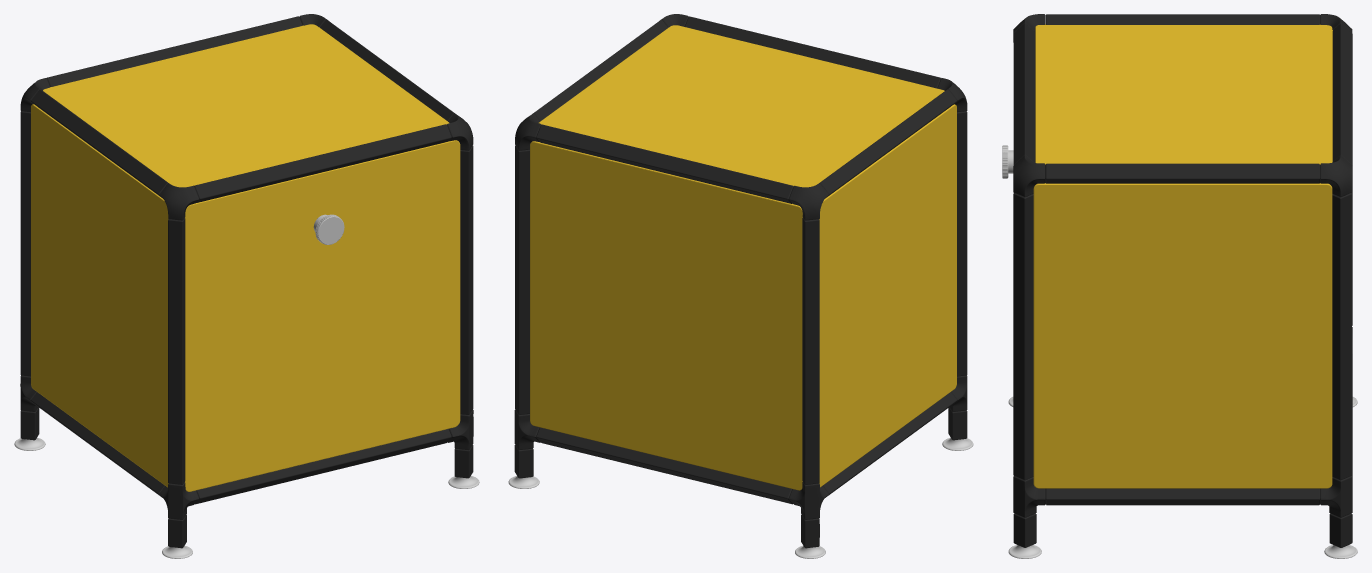
3 views of the same model, side by side, from view 1: azimuth 30°, elevation 25°; view 2: azimuth 150°, elevation 25°; view 3: azimuth 270°, elevation 25° (orthographic). The views are drawn at different scales.
Visible parts, largest first — view 1: 374x329x374; view 2: 374x329x374; view 3: 374x329x374.
Boxes of the visible parts, bbox=[...] form: 374x329x374: bbox=[14, 14, 479, 558]; 374x329x374: bbox=[508, 14, 973, 558]; 374x329x374: bbox=[1002, 14, 1357, 558].
Bounding box in the file's own units: 0.4639 × 0.5133 × 0.4256.
